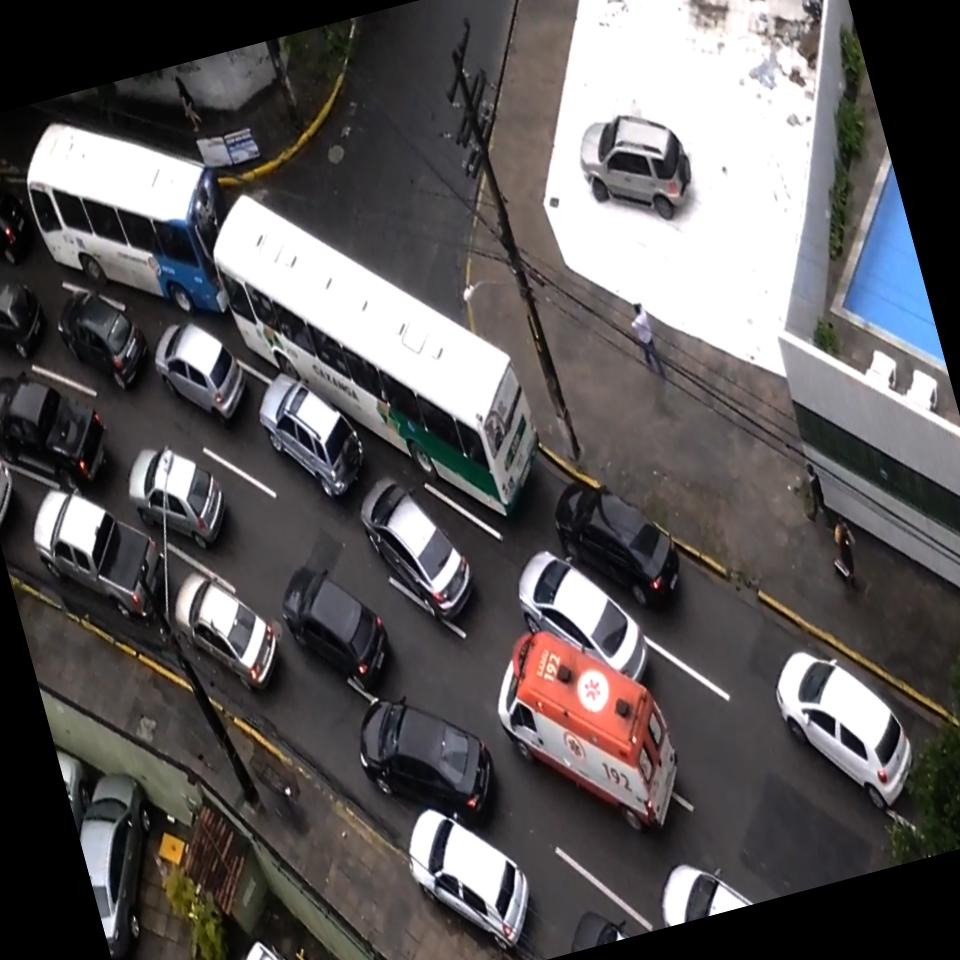bombeiro: (478, 601, 696, 867)
